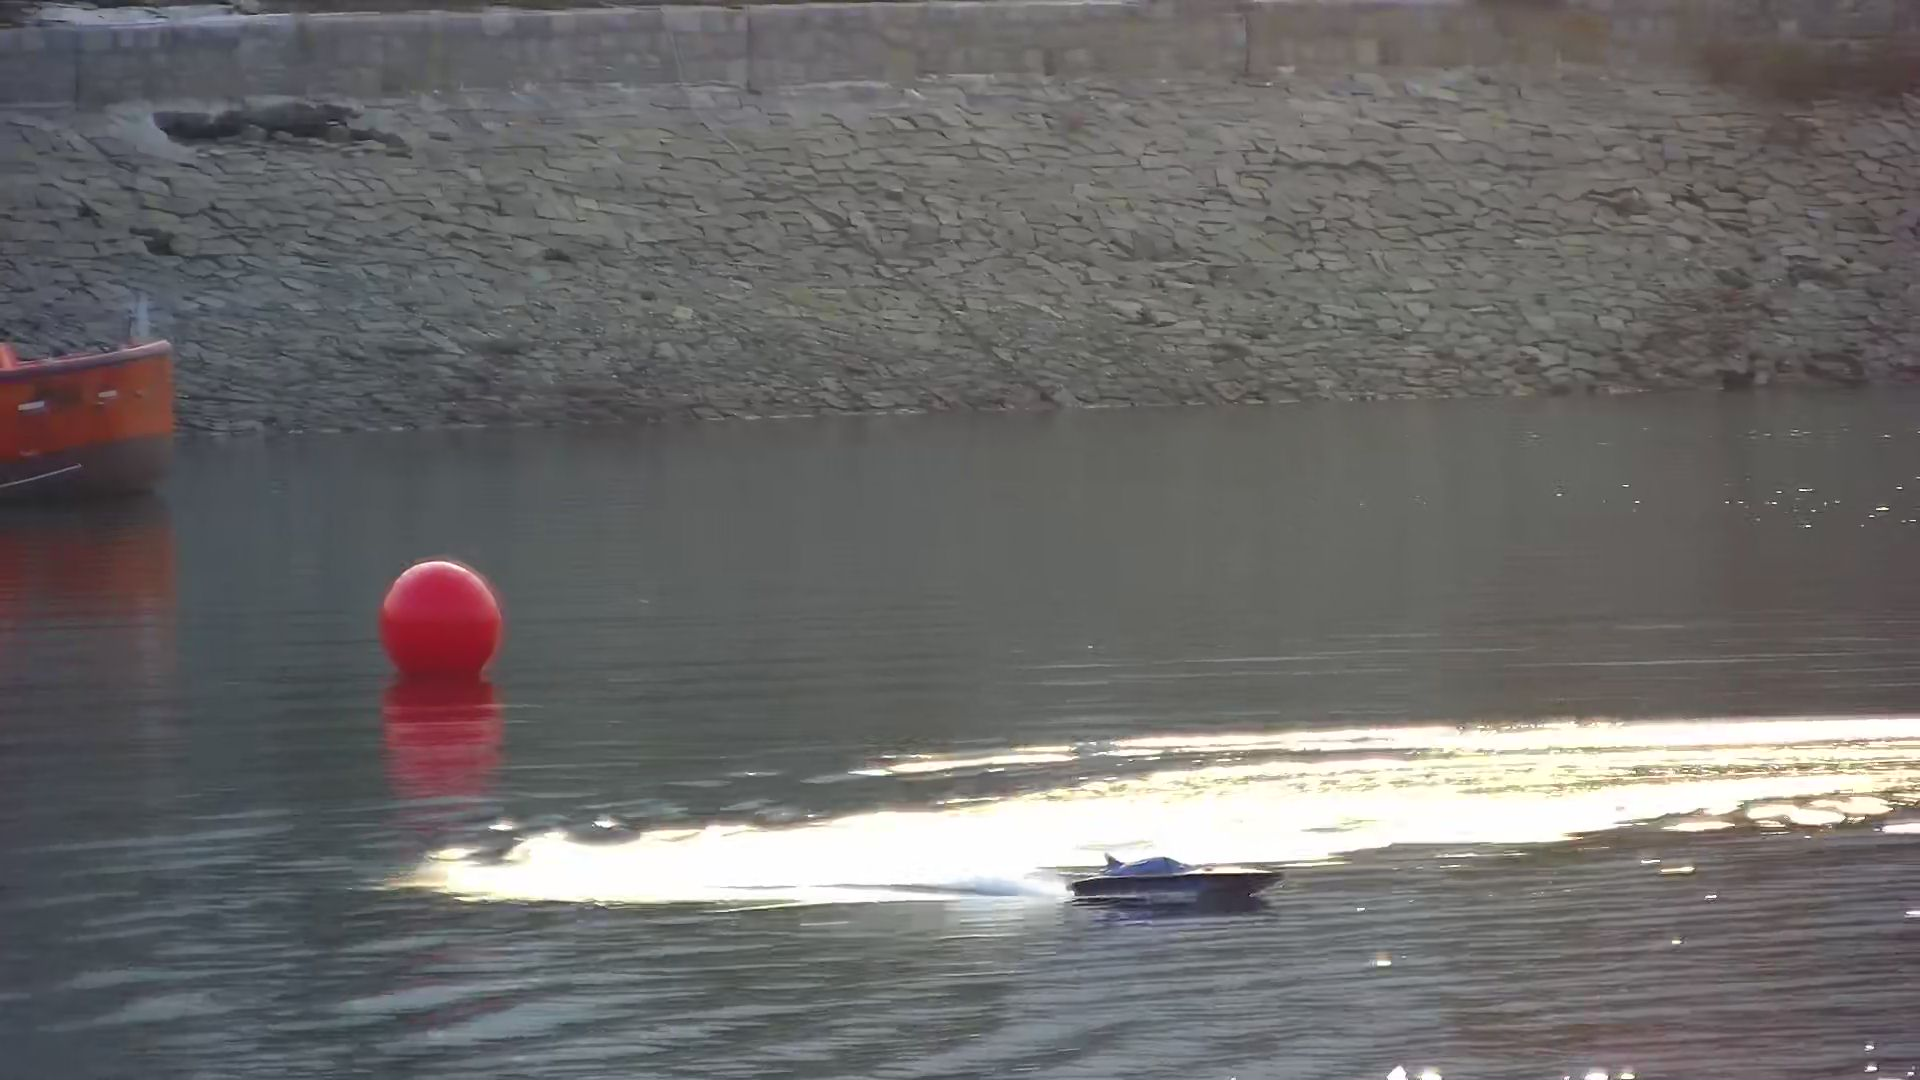ball: (381, 555, 501, 688)
boat: (1073, 853, 1284, 909)
